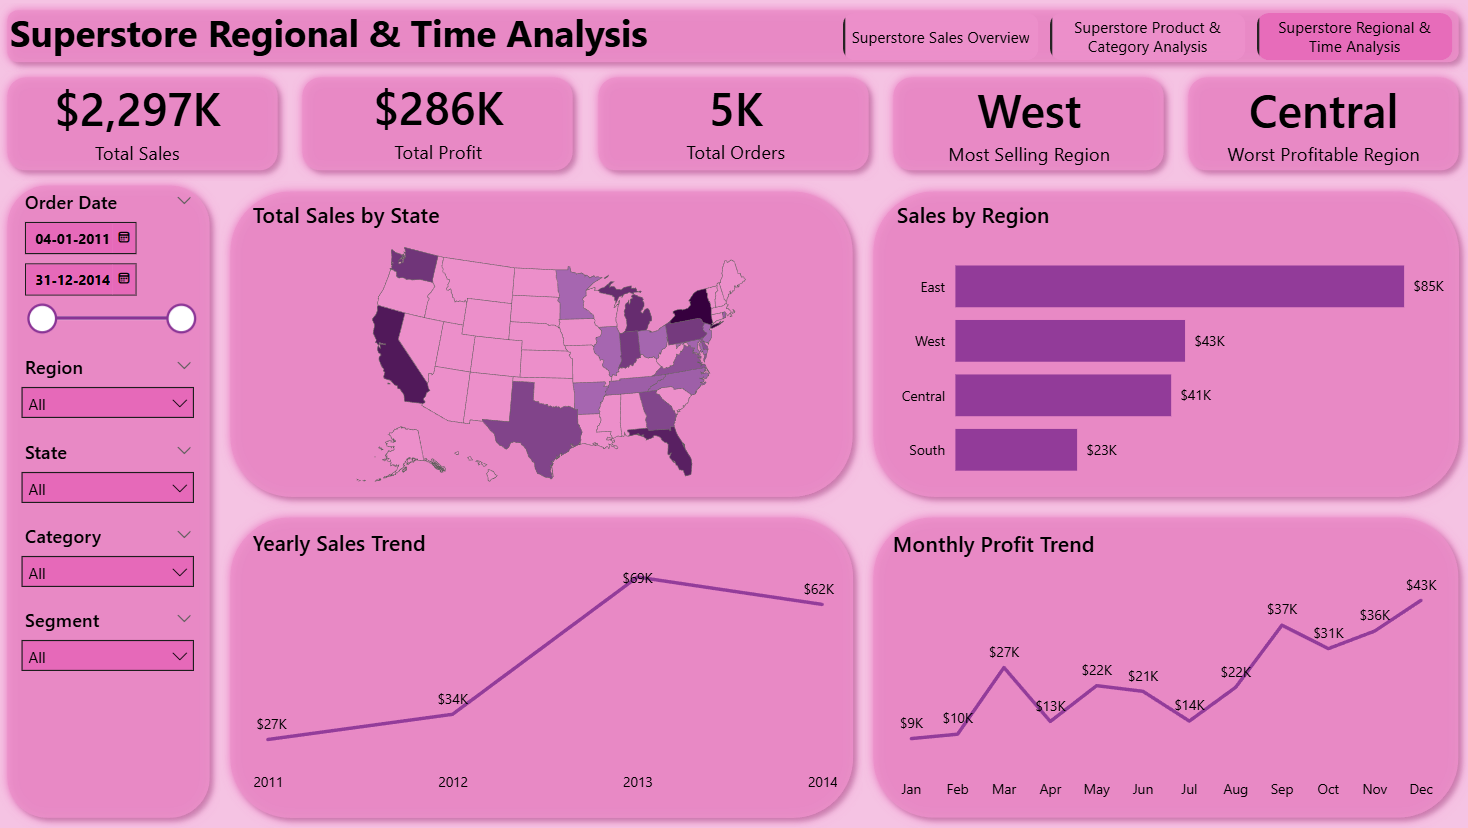

The page's visual inventory and layout, read from the dashboard file:
{"tool":"powerbi","page":{"name":"Superstore Regional & Time Analysis","canvas":[1280,720],"ordinal":2},"visuals":[{"type":"shape","box":[193.6,157.3,559.1,283.6],"z":0},{"type":"shape","box":[0,0,1280,63],"z":1000},{"type":"textbox","box":[6.4,0.9,626.4,55.5],"z":2000},{"type":"shape","box":[0,58,253,99],"z":3000},{"type":"card","fields":{"Values":["Orders.Total Sales"]},"box":[29,61.7,186.8,85.2],"z":4000},{"type":"shape","box":[256.8,58,253,99],"z":5000},{"type":"shape","box":[513.5,58,253,99],"z":6000},{"type":"shape","box":[770.2,58,253,99],"z":7000},{"type":"shape","box":[1027,58,253,99],"z":8000},{"type":"card","fields":{"Values":["Orders.Total Profit"]},"box":[290.2,60.8,186.8,85.2],"z":9000},{"type":"card","fields":{"Values":["Orders.Total Orders"]},"box":[548.6,56.2,187.7,95.2],"z":10000},{"type":"card","fields":{"Values":["Orders.The Most Selling Region"]},"box":[803.6,60.9,188.2,89.1],"z":11000},{"type":"card","fields":{"Values":["Orders.Worst Region Name"]},"box":[1060,60.9,187.3,89.1],"z":12000},{"type":"shapeMap","title":"Total Sales by State","fields":{"Value":["Orders.Total Sales"],"Category":["Orders.State"]},"box":[217.3,173.6,529.1,260.9],"z":13000},{"type":"shape","box":[0,152,194,568],"z":14000},{"type":"shape","box":[752.7,157.3,527.3,283.6],"z":15000},{"type":"barChart","title":"Sales by Region","fields":{"Y":["Orders.Total Sales"],"Category":["Orders.Region"]},"box":[777.3,173.6,488.2,260.9],"z":16000},{"type":"shape","box":[194.1,440.7,559.5,279.3],"z":17000},{"type":"shape","box":[753.3,441,526.7,279],"z":19000},{"type":"lineChart","title":"Monthly Profit Trend","fields":{"Category":["Orders.Order Month"],"Y":["Orders.Total Profit"]},"box":[773.6,460,485.5,244.5],"z":20000},{"type":"slicer","fields":{"Values":["Orders.Order Date"]},"box":[11.4,160,170.5,154.3],"z":21000},{"type":"slicer","fields":{"Values":["Orders.Region"]},"box":[11.4,303.8,170.5,73.3],"z":22000},{"type":"slicer","fields":{"Values":["Orders.State"]},"box":[11.4,377.1,170.5,73.3],"z":23000},{"type":"slicer","fields":{"Values":["Orders.Category"]},"box":[11.4,450.5,170.5,73.3],"z":24000},{"type":"slicer","fields":{"Values":["Orders.Segment"]},"box":[11.4,523.8,170.5,73.3],"z":25000},{"type":"lineChart","title":"Yearly Sales Trend","fields":{"Y":["Orders.Total Sales"],"Category":["Orders.Order Year"]},"box":[217.3,459.1,518.2,239.1],"z":26001},{"type":"pageNavigator","box":[735.5,10.9,530,41.8],"z":26002}]}

Visuals, with their boxes in screenshot pixels (x1, y1, x2, y2), scaled from the page's 1280x720 canvas onto the 1468x828 screenshot:
shape: {"x1": 222, "y1": 181, "x2": 863, "y2": 507}
shape: {"x1": 0, "y1": 0, "x2": 1467, "y2": 72}
textbox: {"x1": 7, "y1": 1, "x2": 726, "y2": 65}
shape: {"x1": 0, "y1": 67, "x2": 290, "y2": 181}
card - Orders.Total Sales: {"x1": 33, "y1": 71, "x2": 247, "y2": 169}
shape: {"x1": 295, "y1": 67, "x2": 585, "y2": 181}
shape: {"x1": 589, "y1": 67, "x2": 879, "y2": 181}
shape: {"x1": 883, "y1": 67, "x2": 1173, "y2": 181}
shape: {"x1": 1178, "y1": 67, "x2": 1467, "y2": 181}
card - Orders.Total Profit: {"x1": 333, "y1": 70, "x2": 547, "y2": 168}
card - Orders.Total Orders: {"x1": 629, "y1": 65, "x2": 844, "y2": 174}
card - Orders.The Most Selling Region: {"x1": 922, "y1": 70, "x2": 1137, "y2": 172}
card - Orders.Worst Region Name: {"x1": 1216, "y1": 70, "x2": 1430, "y2": 172}
"Total Sales by State" shapeMap: {"x1": 249, "y1": 200, "x2": 856, "y2": 500}
shape: {"x1": 0, "y1": 175, "x2": 222, "y2": 827}
shape: {"x1": 863, "y1": 181, "x2": 1467, "y2": 507}
"Sales by Region" barChart: {"x1": 891, "y1": 200, "x2": 1451, "y2": 500}
shape: {"x1": 223, "y1": 507, "x2": 864, "y2": 827}
shape: {"x1": 864, "y1": 507, "x2": 1467, "y2": 827}
"Monthly Profit Trend" lineChart: {"x1": 887, "y1": 529, "x2": 1444, "y2": 810}
slicer - Orders.Order Date: {"x1": 13, "y1": 184, "x2": 209, "y2": 361}
slicer - Orders.Region: {"x1": 13, "y1": 349, "x2": 209, "y2": 434}
slicer - Orders.State: {"x1": 13, "y1": 434, "x2": 209, "y2": 518}
slicer - Orders.Category: {"x1": 13, "y1": 518, "x2": 209, "y2": 602}
slicer - Orders.Segment: {"x1": 13, "y1": 602, "x2": 209, "y2": 687}
"Yearly Sales Trend" lineChart: {"x1": 249, "y1": 528, "x2": 844, "y2": 803}
pageNavigator: {"x1": 844, "y1": 13, "x2": 1451, "y2": 61}
